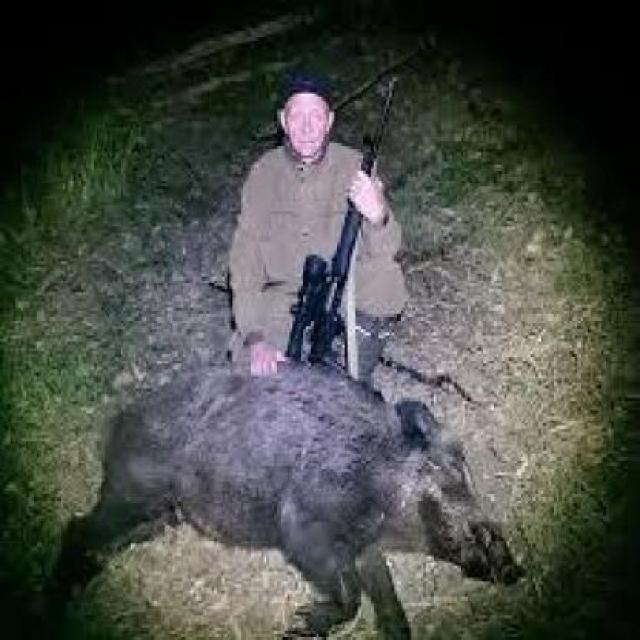wildboar: (39, 347, 531, 640)
